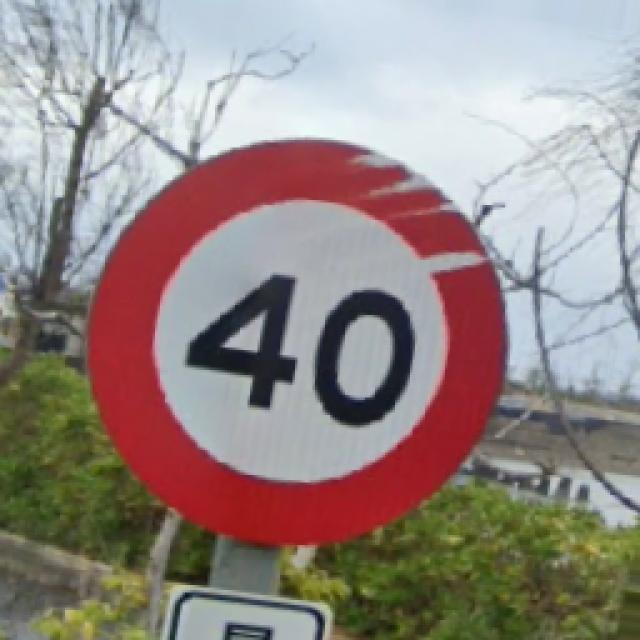Speed Limit -40-: (90, 138, 505, 545)
